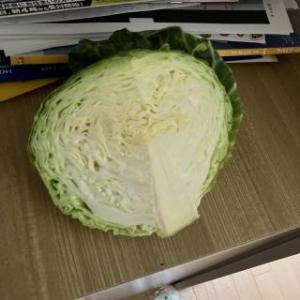cabbage: (24, 26, 246, 238)
